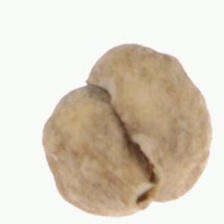L2: (41, 42, 212, 217)
